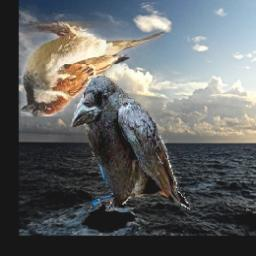Crow: (70, 76, 190, 212)
Sparrow: (22, 21, 164, 116)
